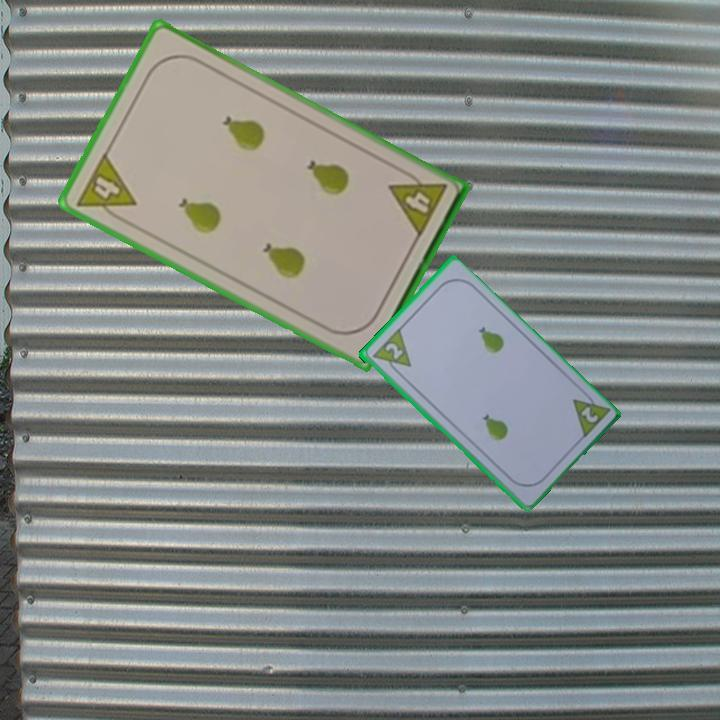2p: (568, 386, 612, 442), (368, 326, 414, 379)
4p: (72, 149, 139, 227), (385, 164, 450, 241)
